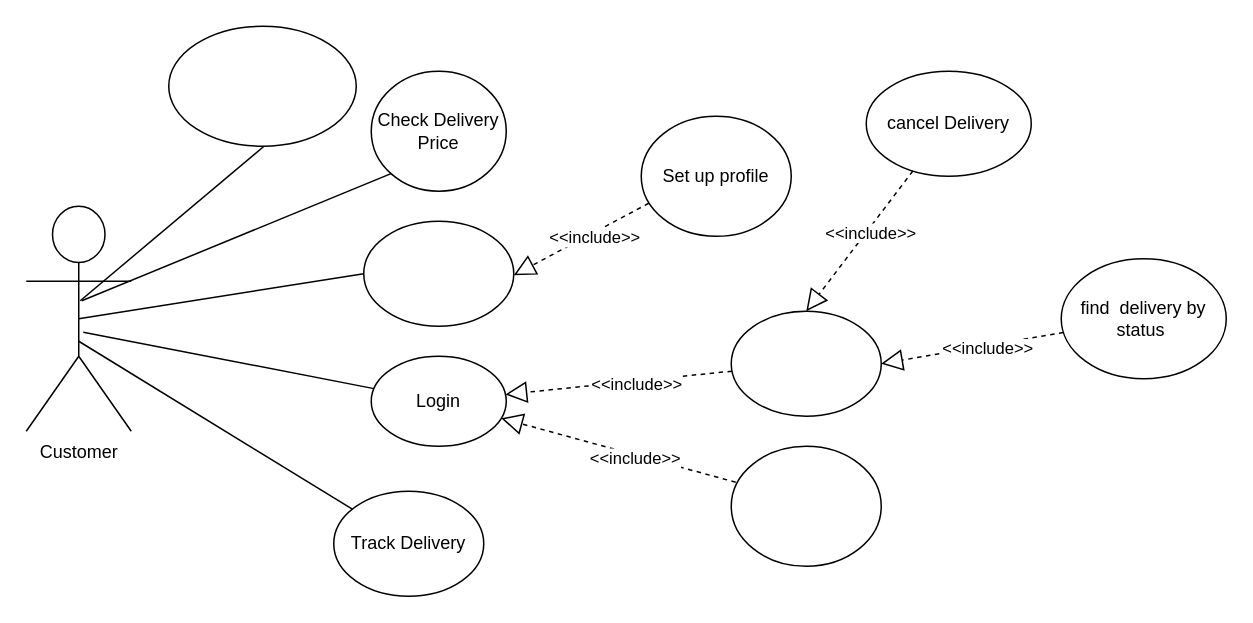
Image size: 1253x623. Some labels were removed from this diagram. Here are the shapes that lost their labels. From the top down, the box of each, then its label:
(167, 25, 356, 146): Search for Available logistic Company
(362, 220, 514, 326): Register
(730, 310, 881, 416): BookDelivery
(730, 445, 881, 566): Find delivery history
